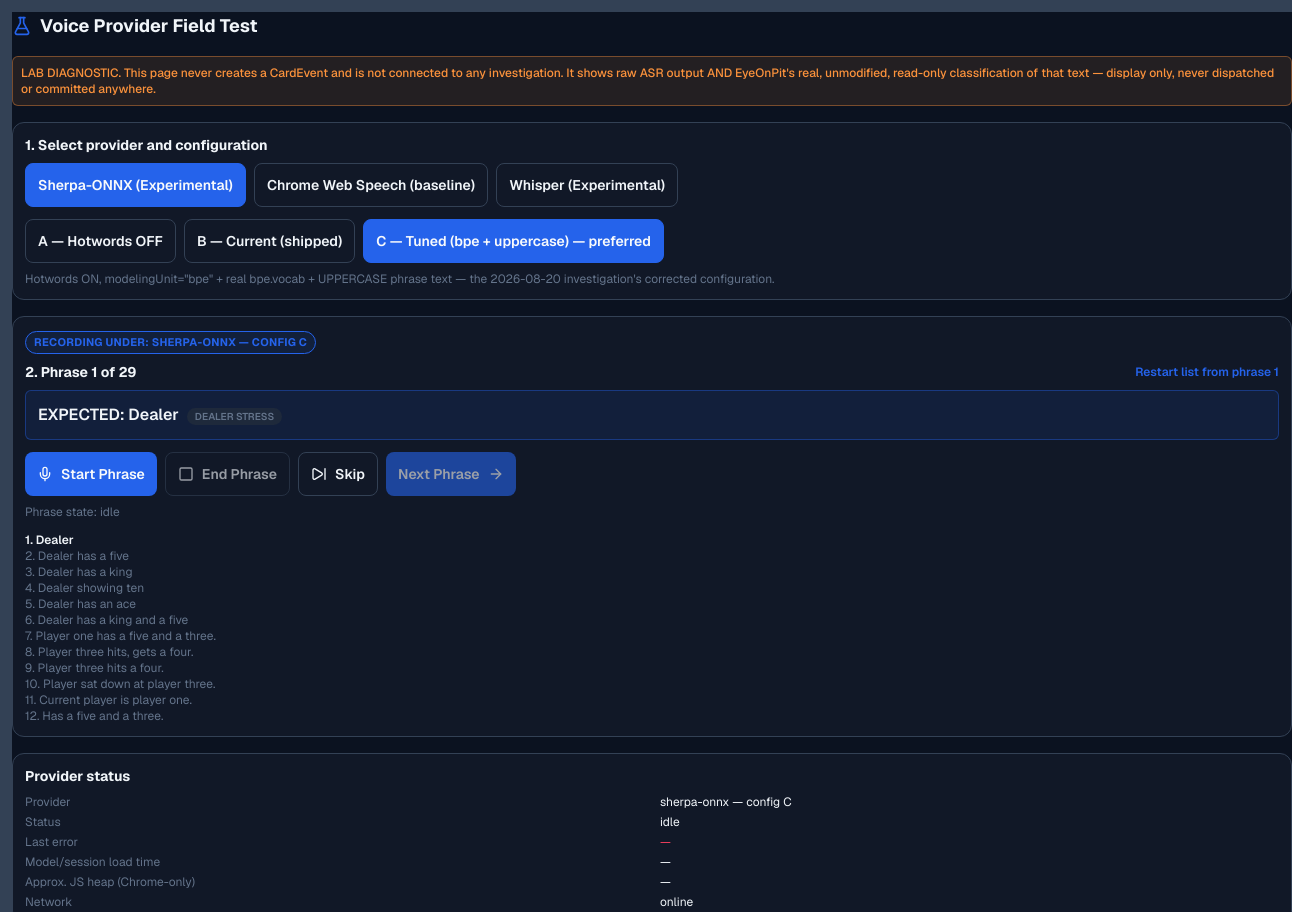
Scenario: Sherpa A/B/C Lab page — REGRESSION (items 7 & 8, 2026-08-20 real mic session): config switch resets the phrase run cleanly, no page reload, no bleed › REGRESSION (item 7): switching A/B/C resets the phrase run to Phrase 1 — no manual 'Restart list' click, no page reload required
Click the button "Skip" at point(338, 474), box [298,452,378,496]
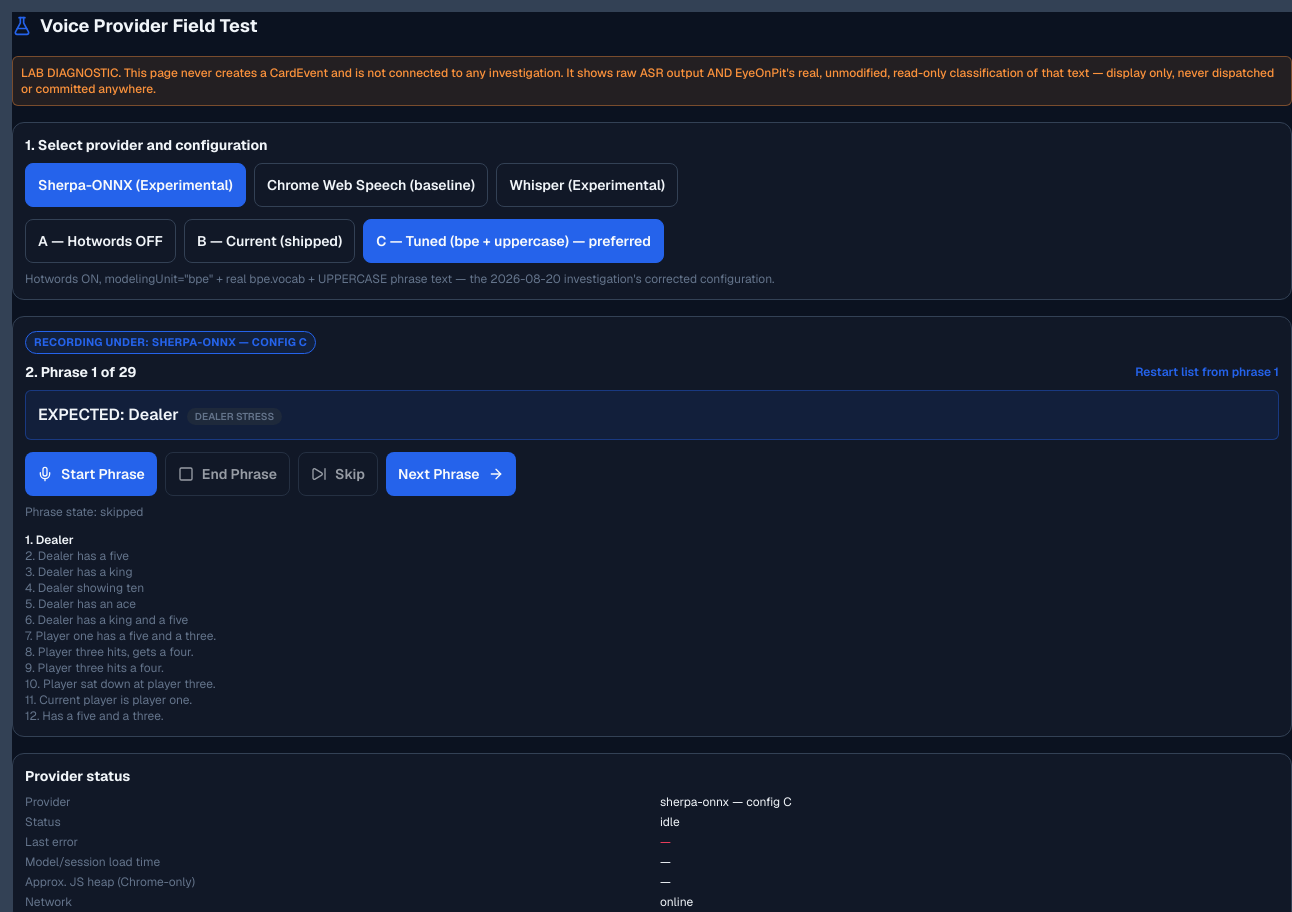
Click the button "Next Phrase" at point(451, 474), box [386,452,516,496]
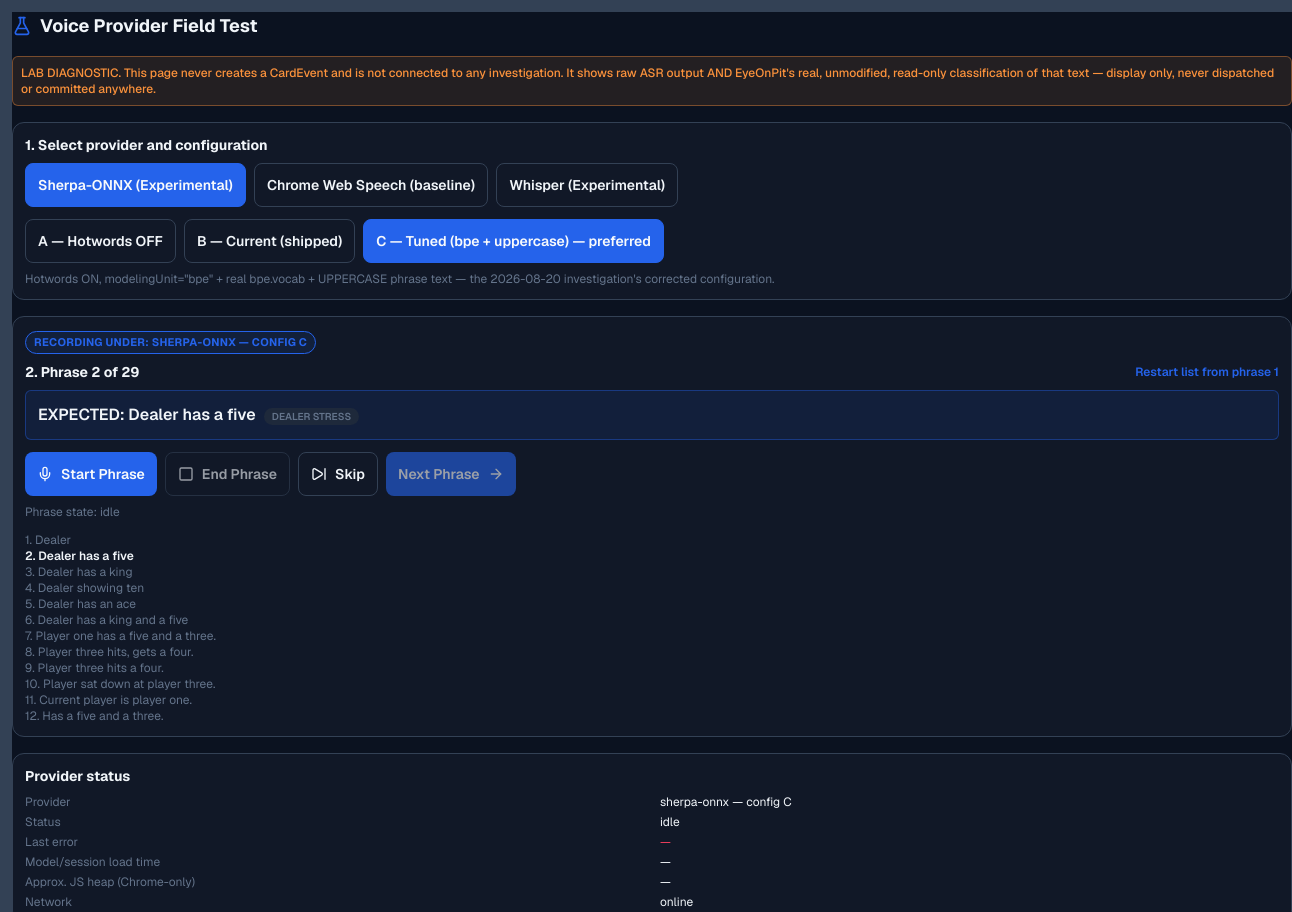
Click the button "Skip" at point(338, 474), box [298,452,378,496]
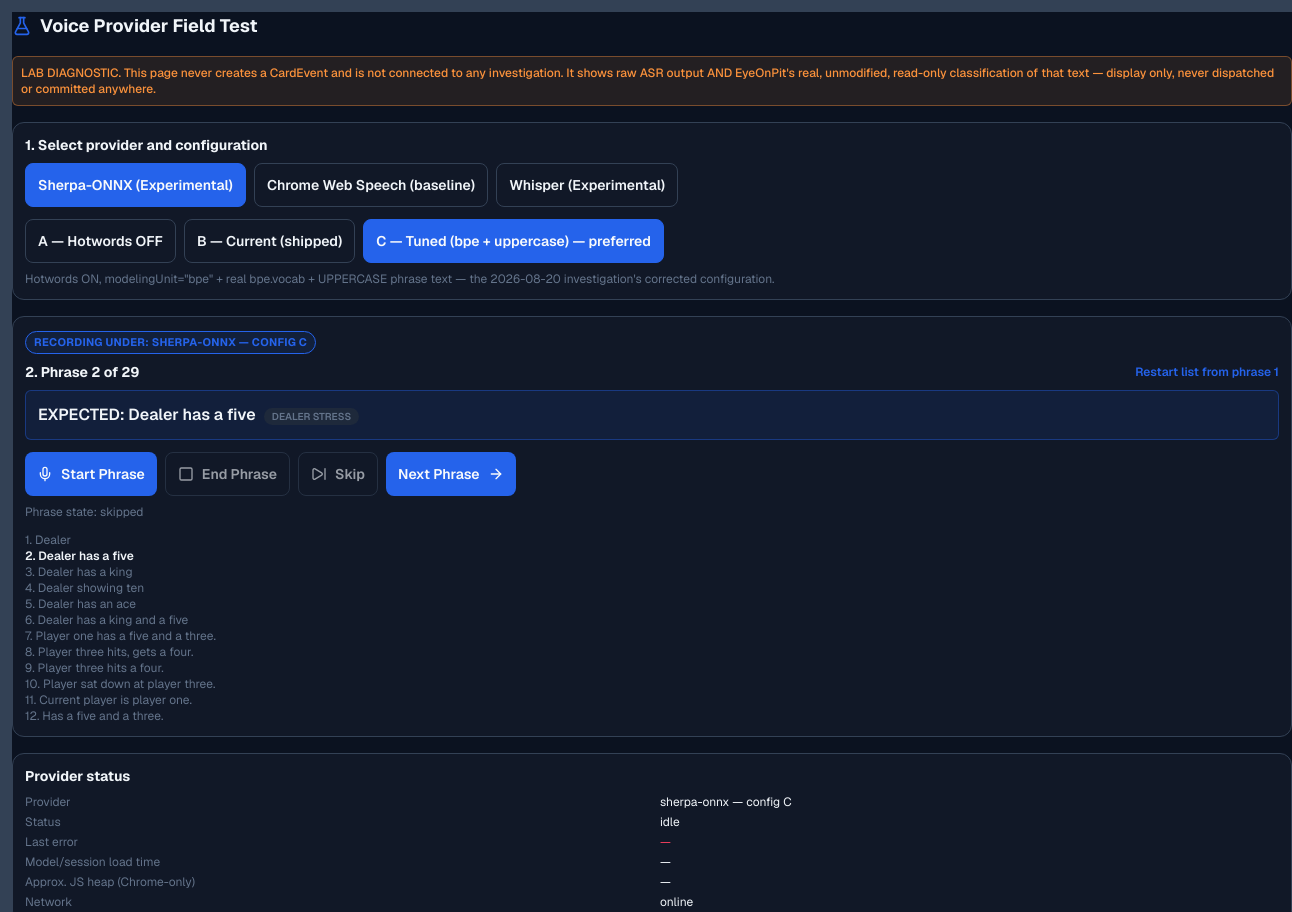
Click the button "Next Phrase" at point(451, 474), box [386,452,516,496]
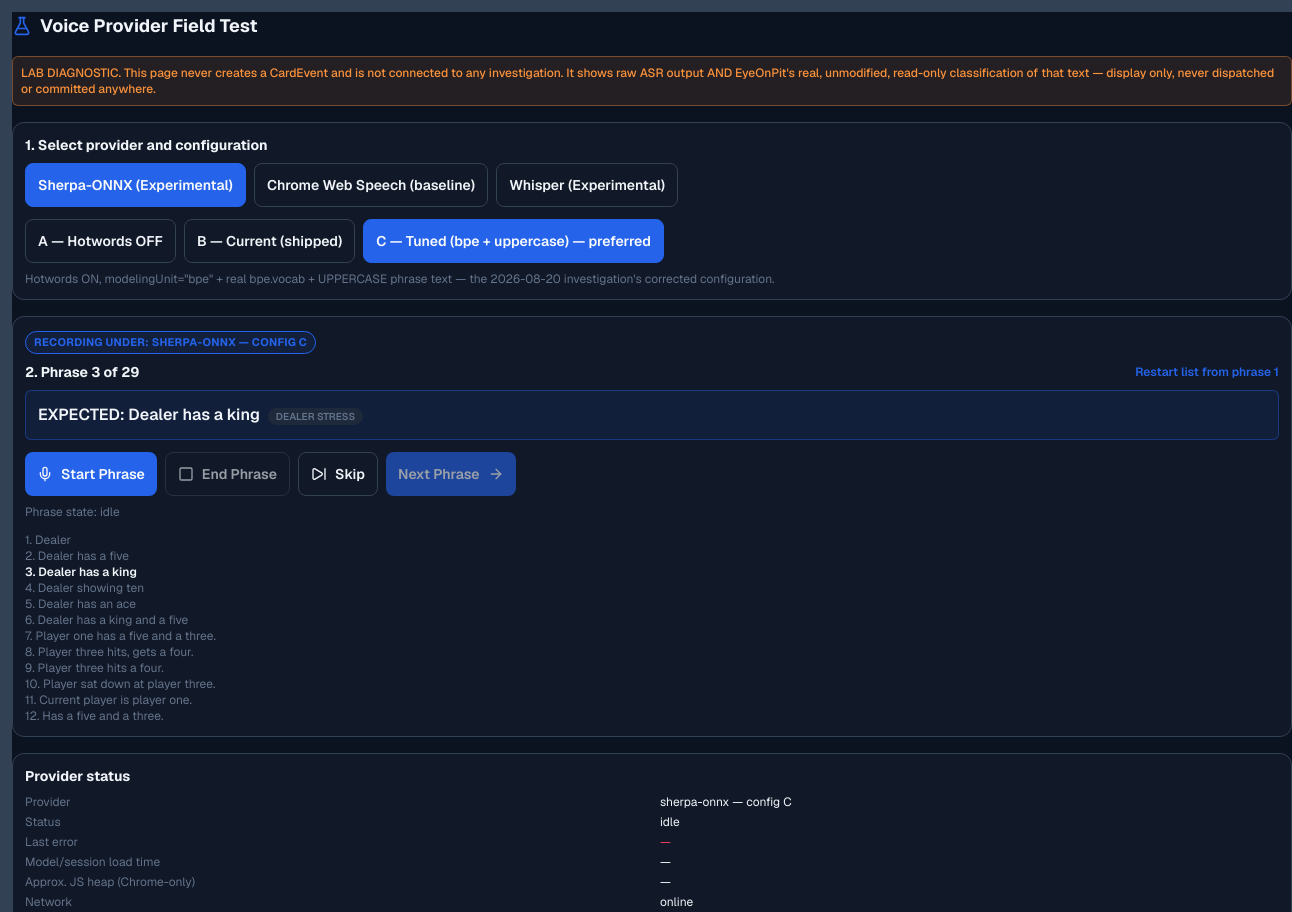
expect the heading "2. Phrase 3 of 29" is shown: met, box [25,362,139,382]
Click the button "B — Current (shipped)" at point(270, 241), box [184,219,355,263]
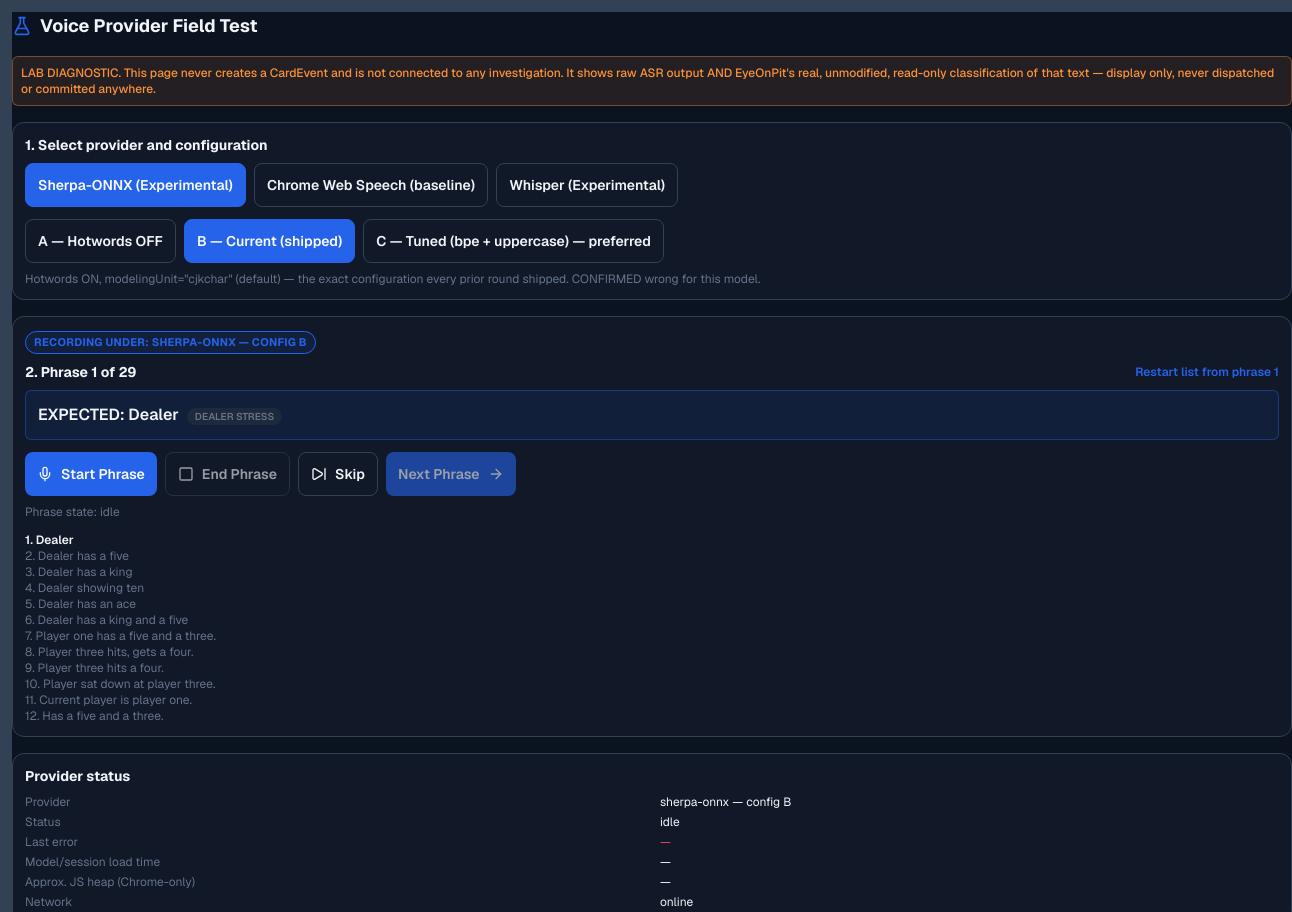
expect the heading "2. Phrase 1 of 29" is shown: met, box [25,362,136,382]
expect the text with test id "active-config-banner" shows "Config B": met, box [152,335,307,349]
